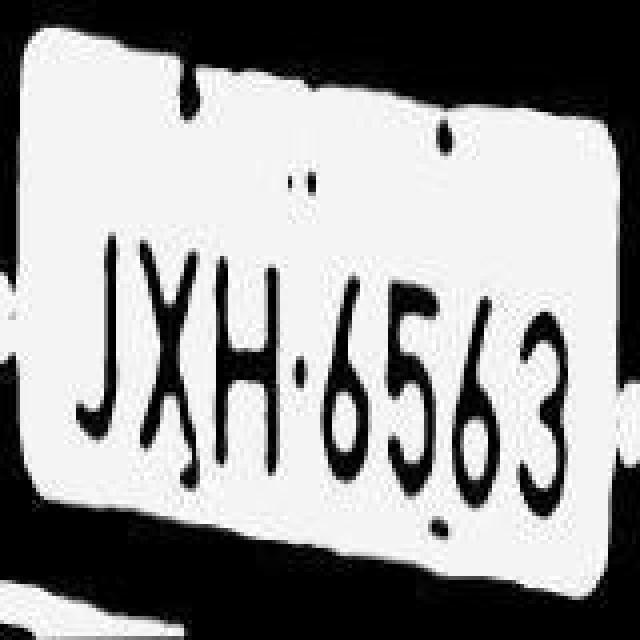3: (516, 282, 588, 546)
5: (384, 270, 448, 522)
6: (316, 252, 380, 508), (452, 284, 516, 536)
H: (214, 224, 290, 492)
J: (58, 180, 134, 448)
X: (140, 176, 212, 444)
